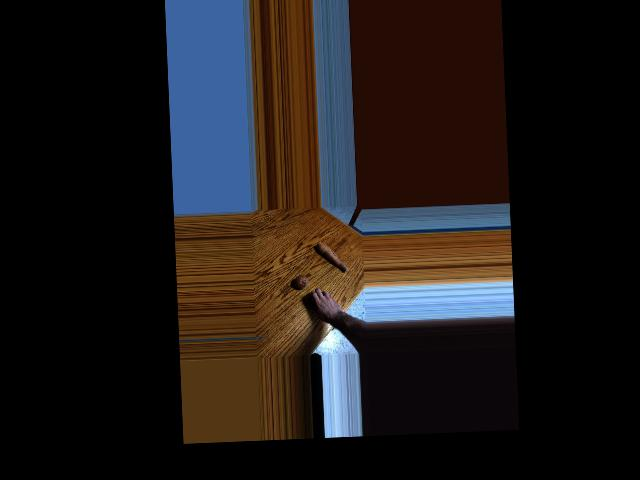onion: (307, 293, 322, 312)
